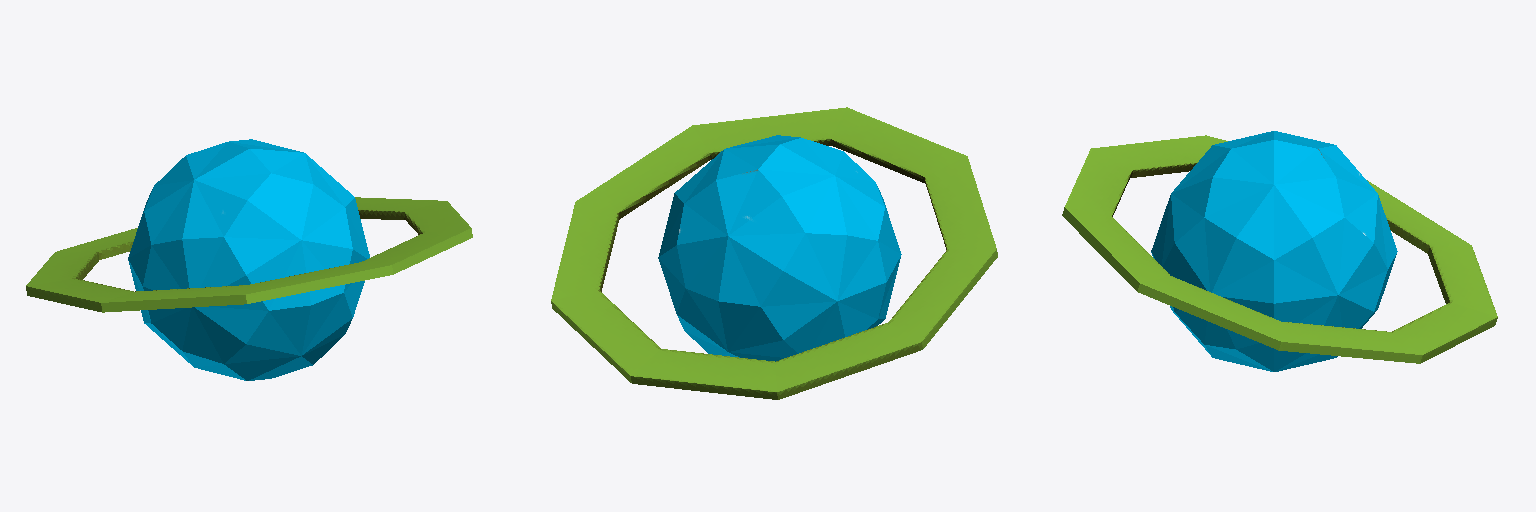
The picture shows the model from 3 angles: view 1: azimuth 30°, elevation 25°; view 2: azimuth 150°, elevation 25°; view 3: azimuth 270°, elevation 25°; orthographic projection.
Size of the model in its own units: 38.53 by 21.44 by 37.9.
Materials: 1 (1 with a texture image).